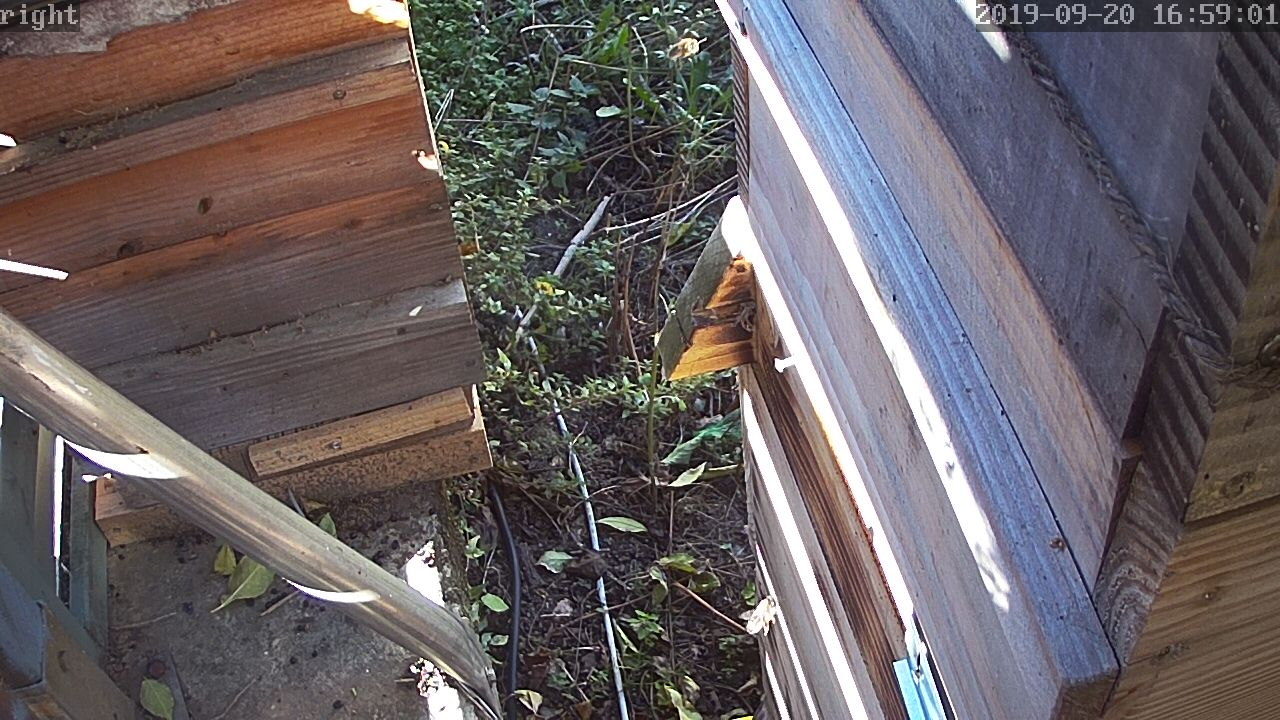bee: (738, 594, 772, 641), (677, 30, 724, 62)
